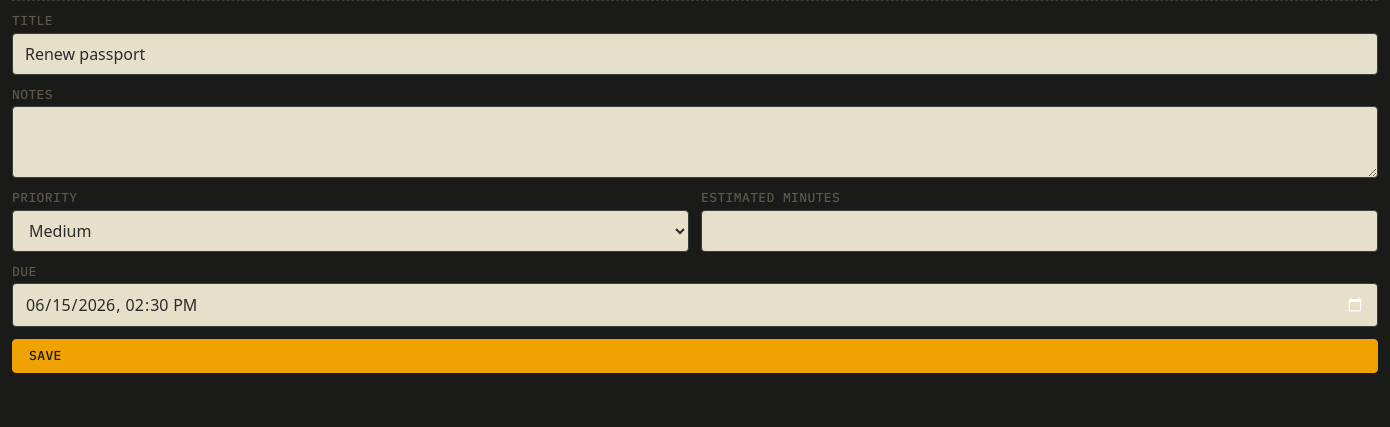
TaskDetail › shows a visible error when saving fails
Click the button "Save".
click(45, 356)  # box 12,339 -> 1378,373
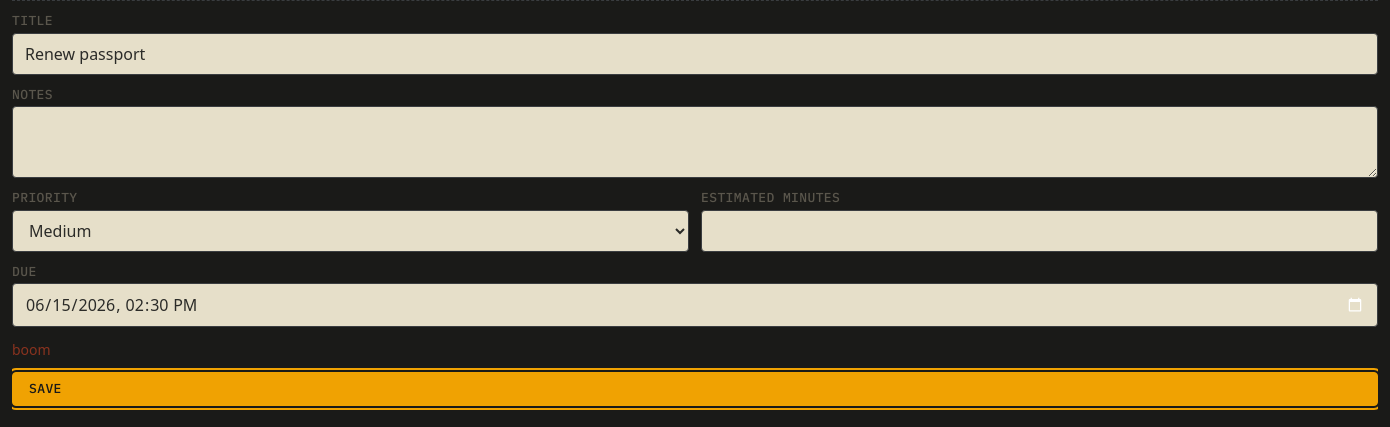
Result: the message reads "boom" at 12,340 -> 51,359
